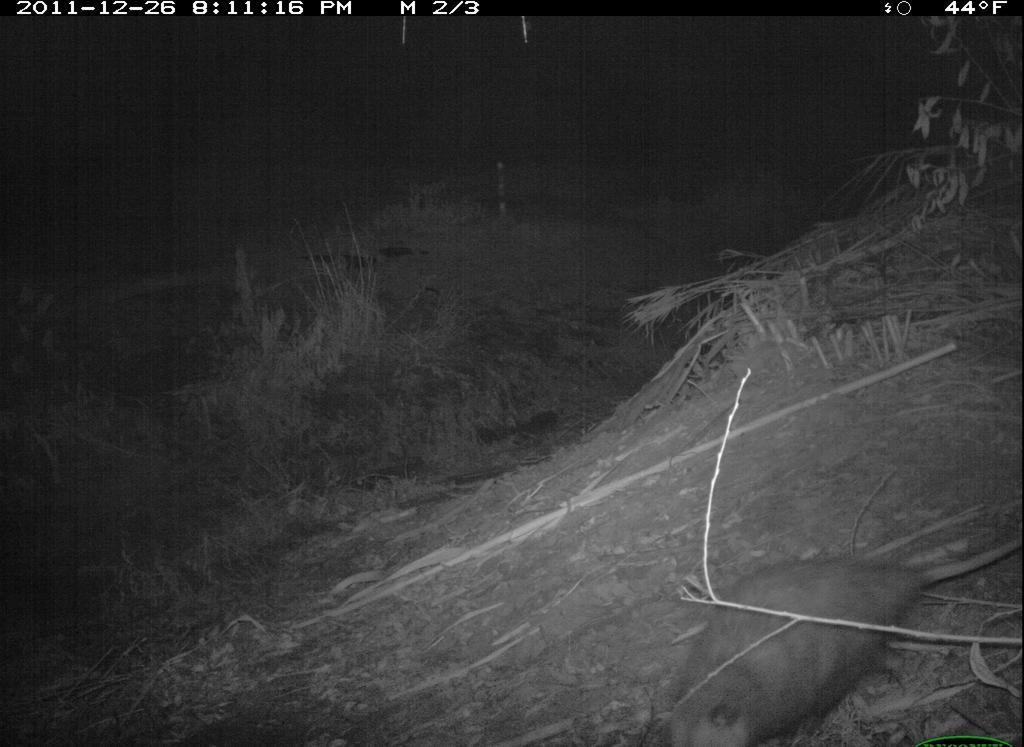opossum: (628, 519, 1023, 743)
